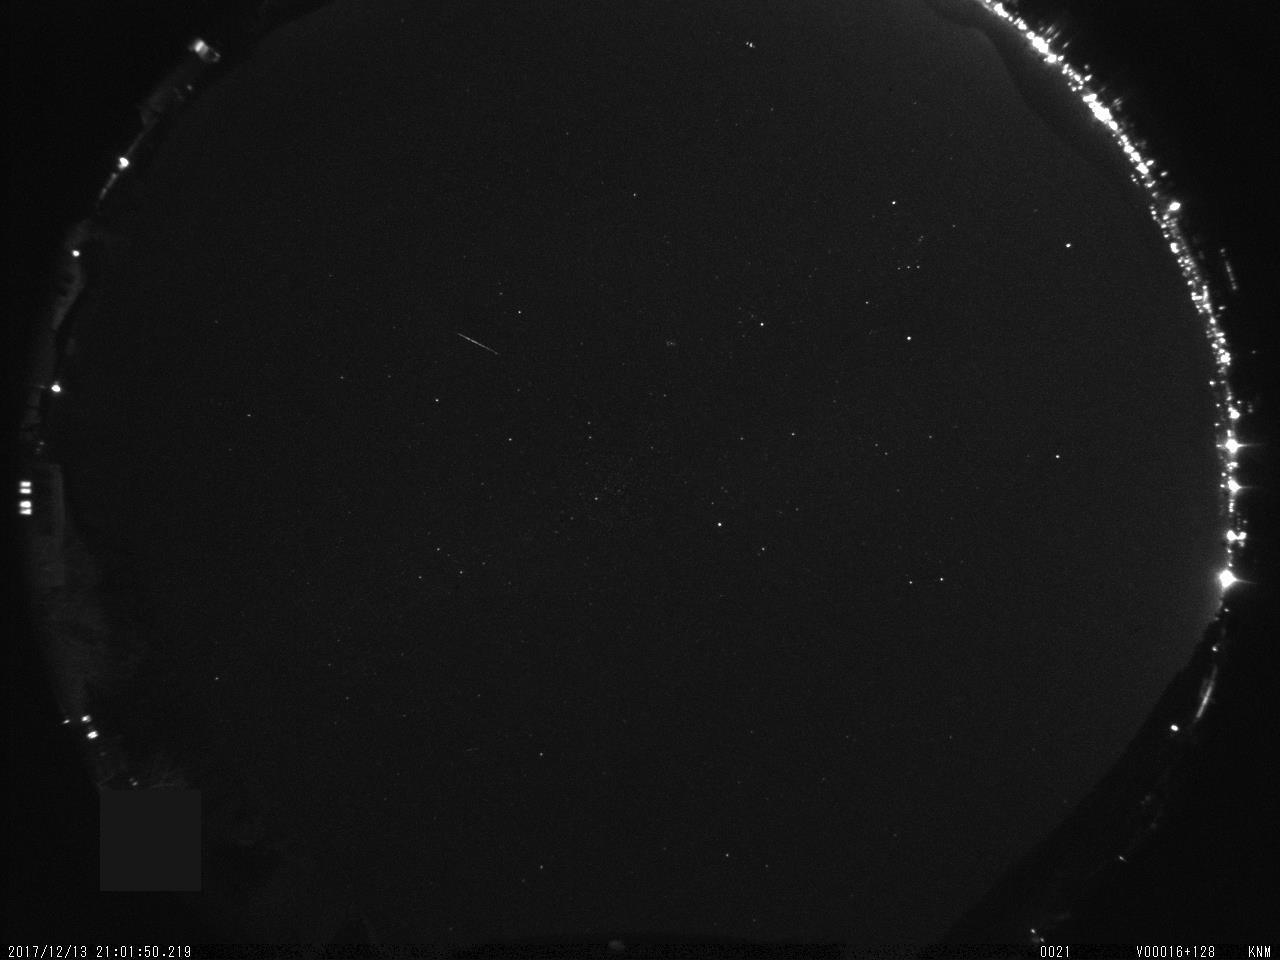Meteor: (453, 328, 502, 356)
